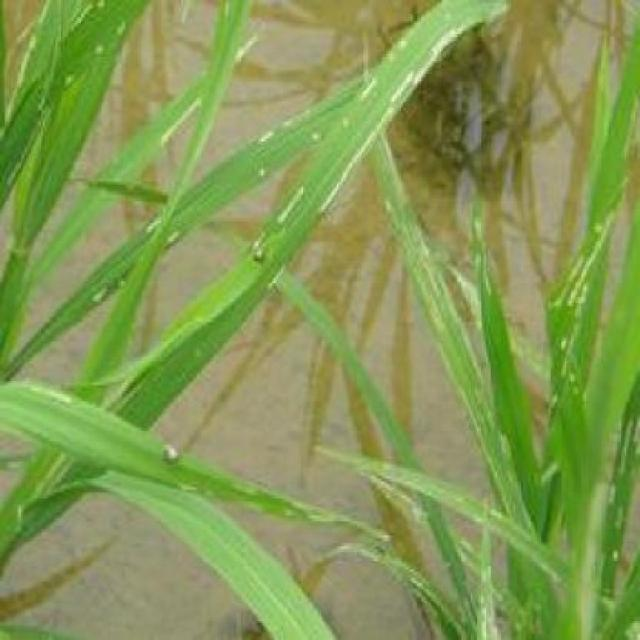rice-bug: (251, 237, 269, 265), (165, 440, 183, 465)
